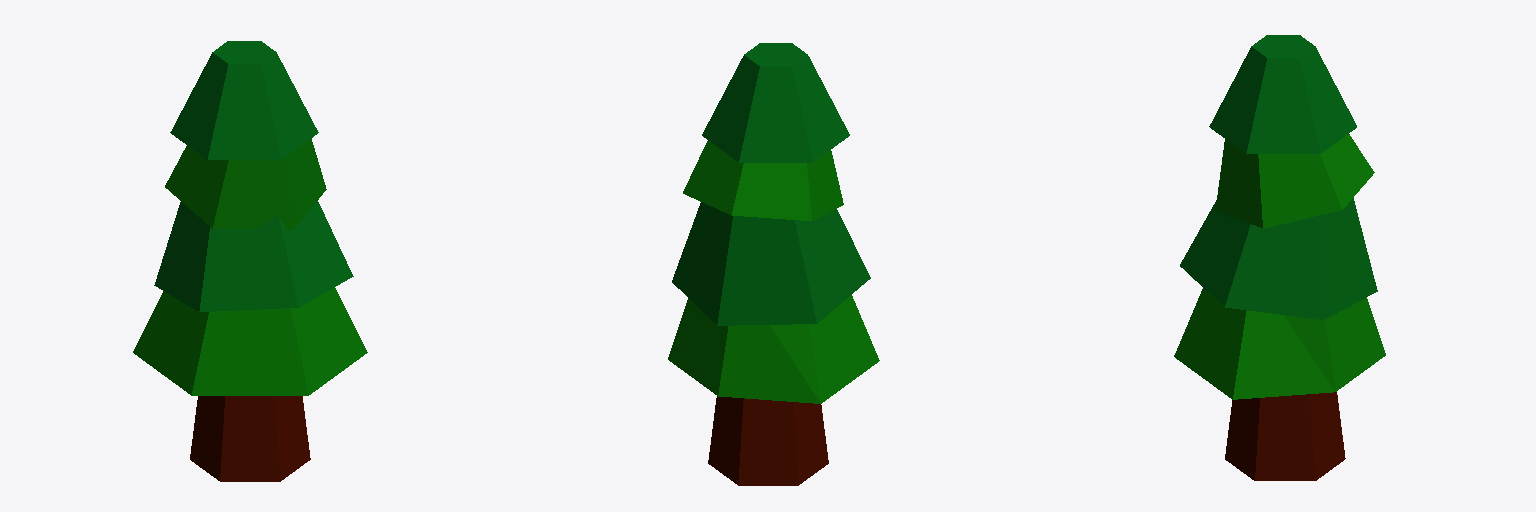
The model's file is fir.obj.
The picture shows the model from 3 angles: view 1: azimuth 30°, elevation 25°; view 2: azimuth 150°, elevation 25°; view 3: azimuth 270°, elevation 25°; orthographic projection.
Parts seen in each view (by area): view 1: Cylinder.001, Cylinder.002, Cylinder.004, Cylinder.003, Cylinder; view 2: Cylinder.002, Cylinder.001, Cylinder.004, Cylinder, Cylinder.003; view 3: Cylinder.002, Cylinder.001, Cylinder.004, Cylinder.003, Cylinder.
Part boxes in pixels (x1,y1,x2,y2): Cylinder.001: (133,287,367,395); Cylinder.002: (154,201,353,311); Cylinder.004: (170,41,318,159); Cylinder.003: (165,138,326,229); Cylinder: (190,396,310,481); Cylinder.002: (672,202,870,325); Cylinder.001: (668,295,879,403); Cylinder.004: (702,43,849,162); Cylinder: (708,396,828,485); Cylinder.003: (683,141,843,220); Cylinder.002: (1180,198,1377,319); Cylinder.001: (1174,288,1385,399); Cylinder.004: (1209,35,1356,153); Cylinder.003: (1216,134,1374,228); Cylinder: (1225,392,1345,480).
Size of the model in its own units: 3.37 by 7.48 by 3.51.